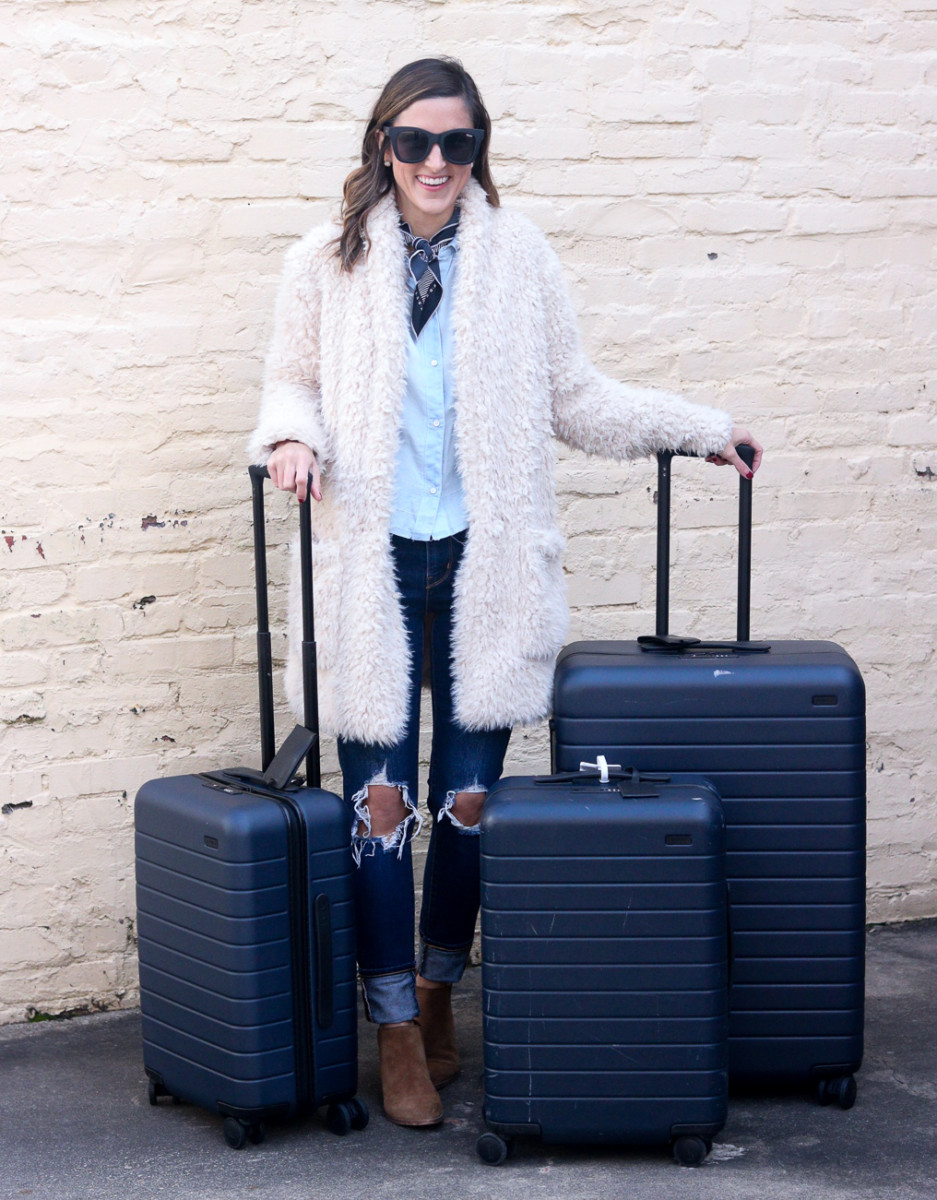luggage: (558, 618, 900, 1113), (475, 791, 738, 1163), (118, 738, 366, 1131)
